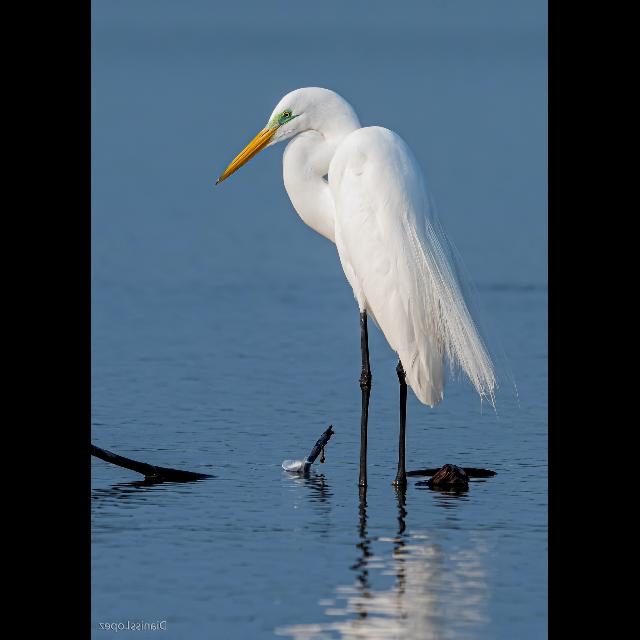egret: (210, 74, 496, 524)
